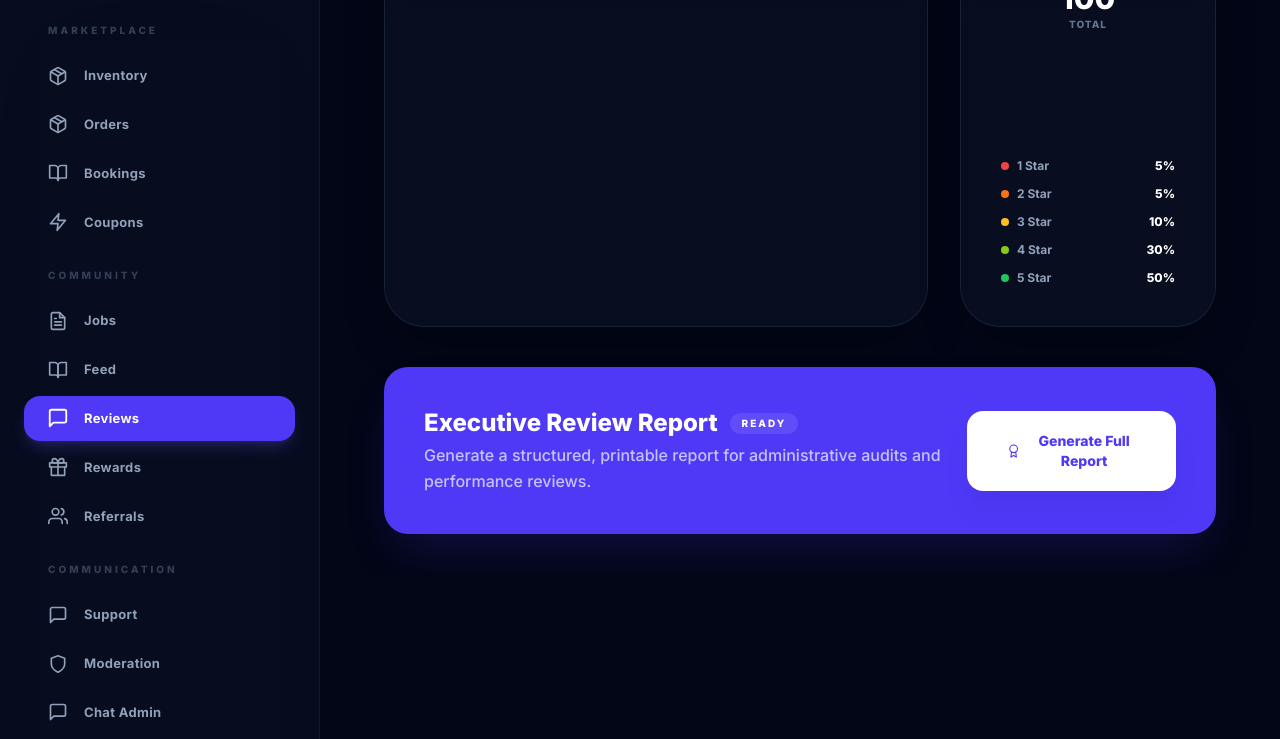
Test: AdminReviewAnalytics Component › displays correct insights for excellent performance
(page scrolled)
Click the button "Generate Full Report" at (1072, 451), box [967,411,1176,491]
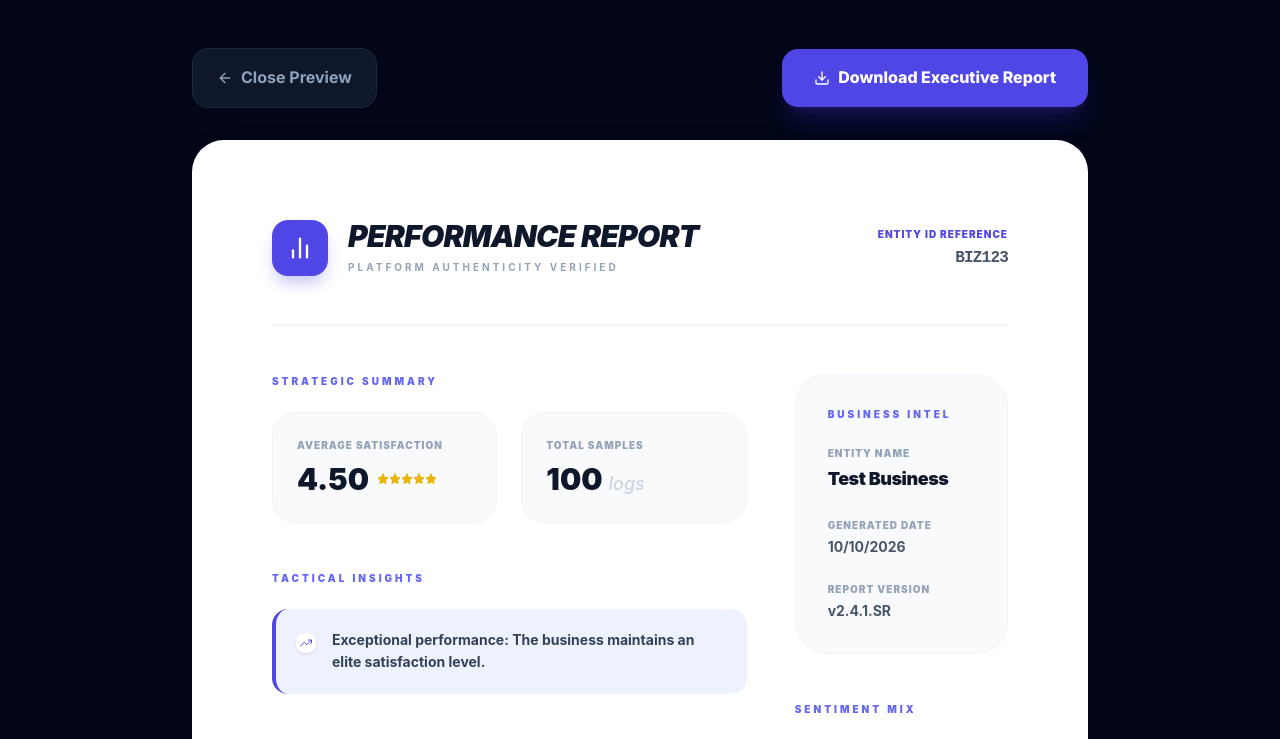
Now the text "Exceptional performance: The business maintains an elite satisfaction level." is shown, box [332,629,727,674]
